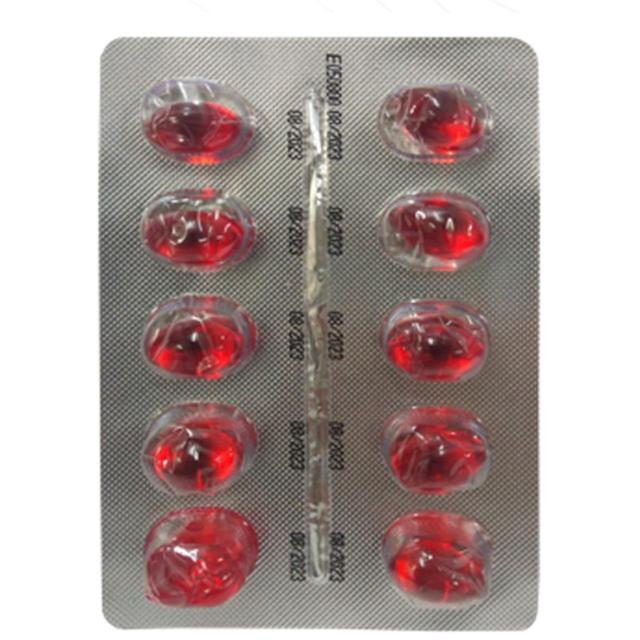blister: (84, 18, 548, 638)
